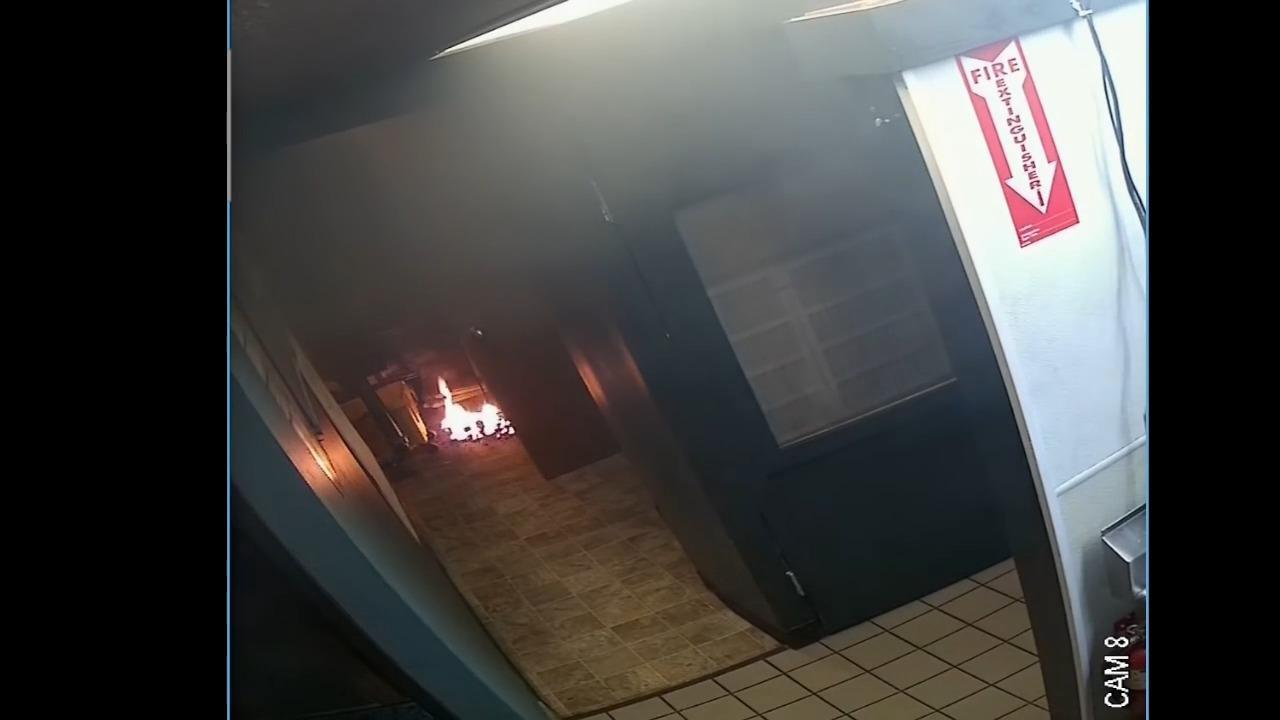fire: (437, 377, 515, 441)
